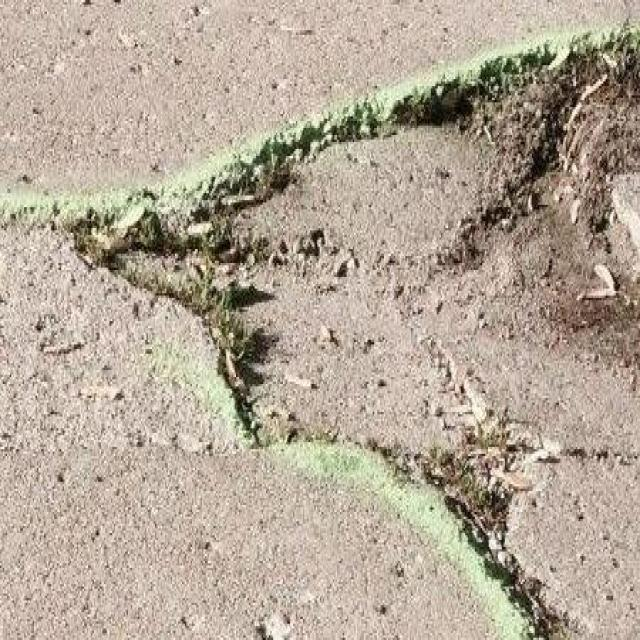hole: (79, 12, 640, 616)
